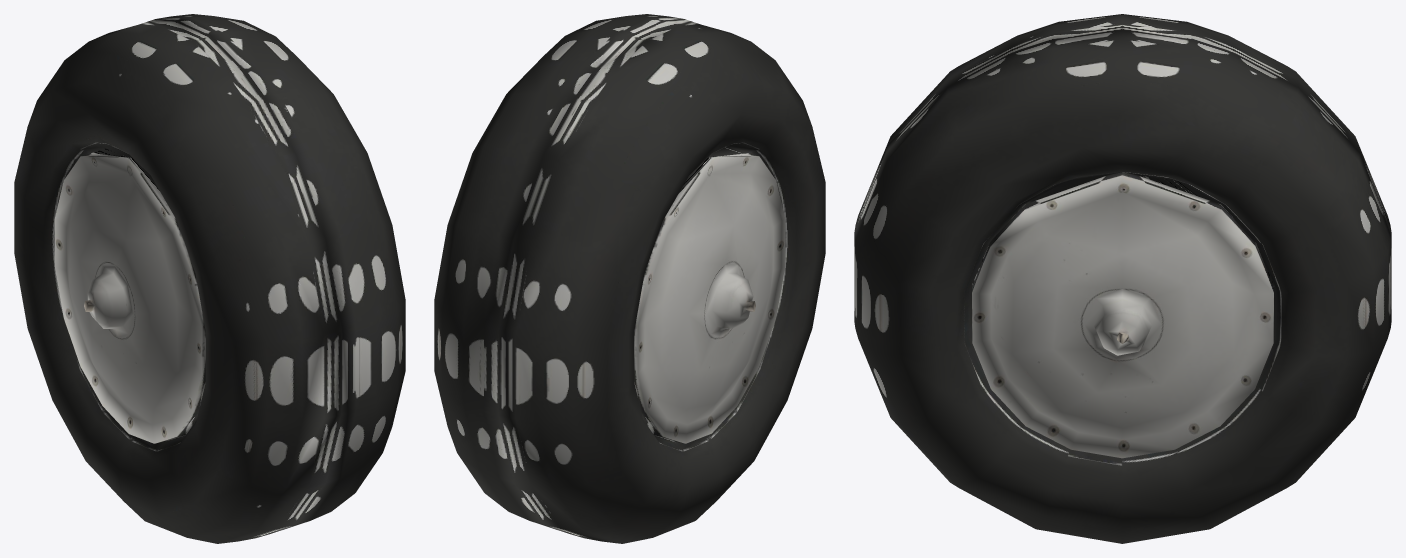
Rendered from wheel.glb.
3 views of the same model, side by side, from view 1: azimuth 30°, elevation 25°; view 2: azimuth 150°, elevation 25°; view 3: azimuth 270°, elevation 25° (orthographic). The views are drawn at different scales.
Parts seen in each view (by area): view 1: tripo_node_af10d117-5afb-44d0-94a7-4d7e5; view 2: tripo_node_af10d117-5afb-44d0-94a7-4d7e5; view 3: tripo_node_af10d117-5afb-44d0-94a7-4d7e5.
Boxes of the visible parts, x1,y1,x2,y2 form: tripo_node_af10d117-5afb-44d0-94a7-4d7e5: (14, 14, 405, 543); tripo_node_af10d117-5afb-44d0-94a7-4d7e5: (434, 14, 825, 543); tripo_node_af10d117-5afb-44d0-94a7-4d7e5: (854, 14, 1391, 543).
Bounding box in the file's own units: 0.5326 × 0.9912 × 0.9707.
Materials: 1 (1 with a texture image).
